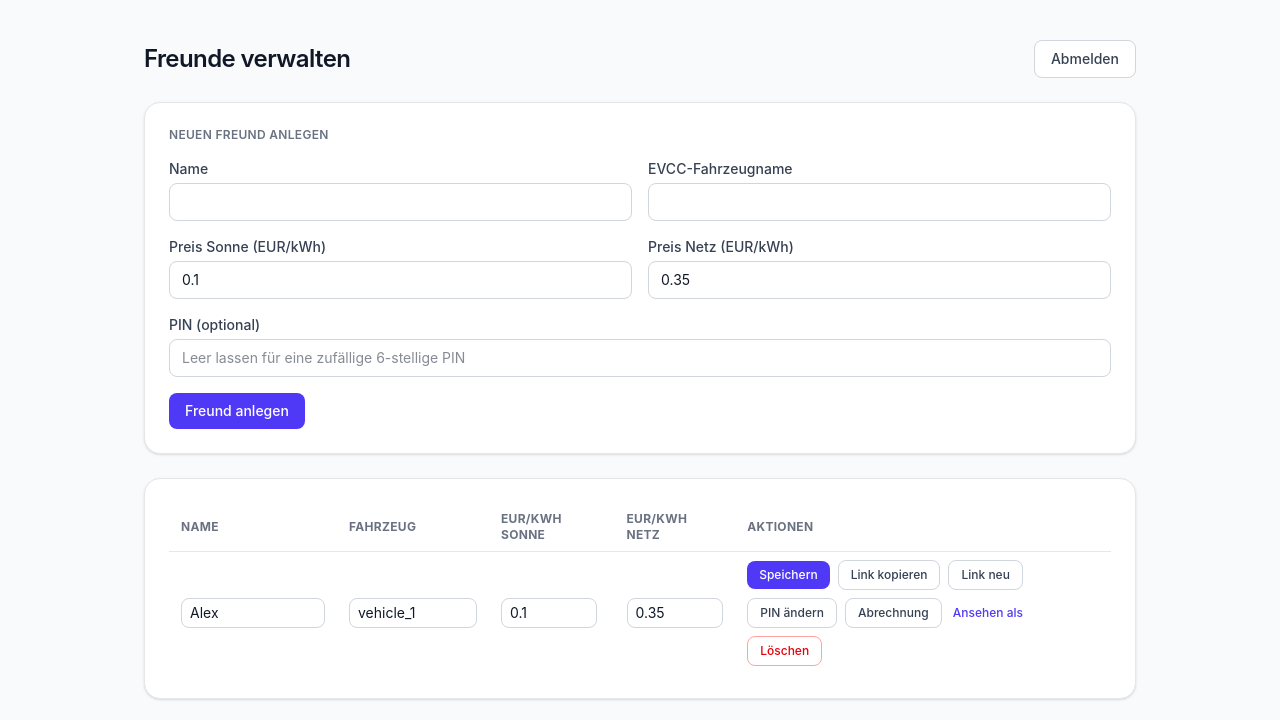
Test: AdminPage › reflects a row update without re-fetching the whole list
Click the button "Speichern" at (788, 575), box [747,561,830,589]
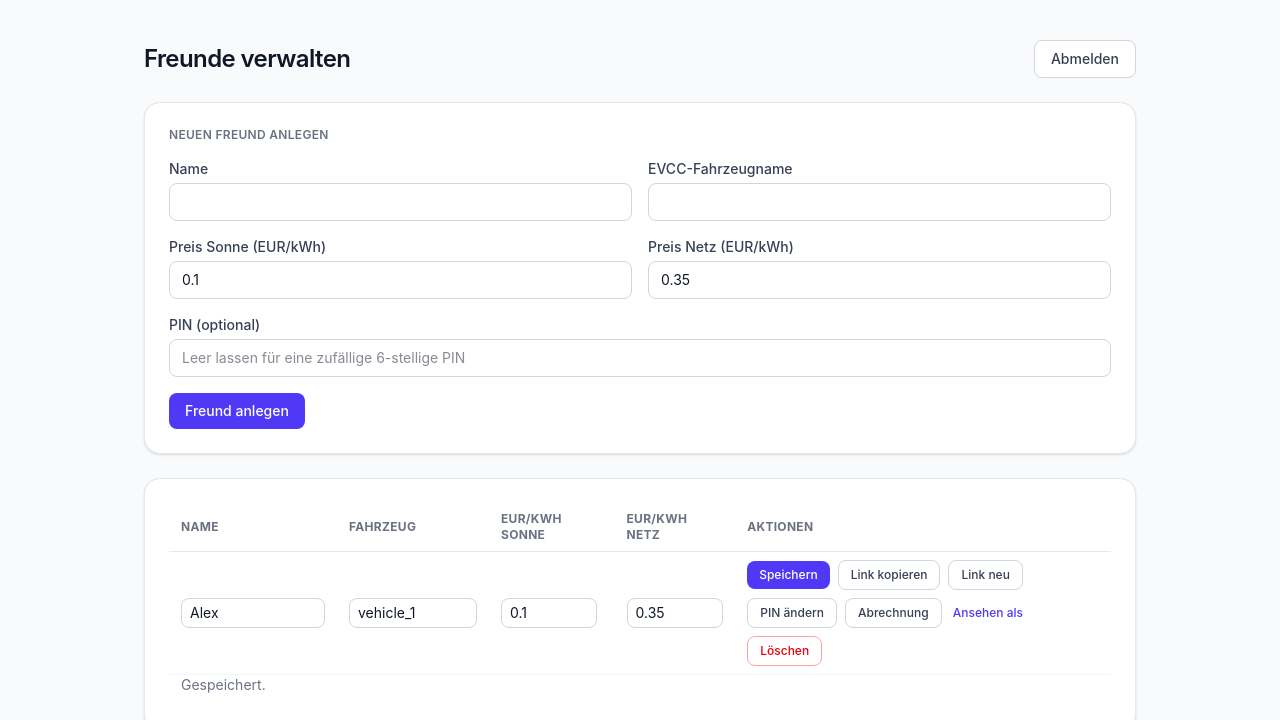
Expected: the text "Gespeichert." is shown, [181,676,266,693]
